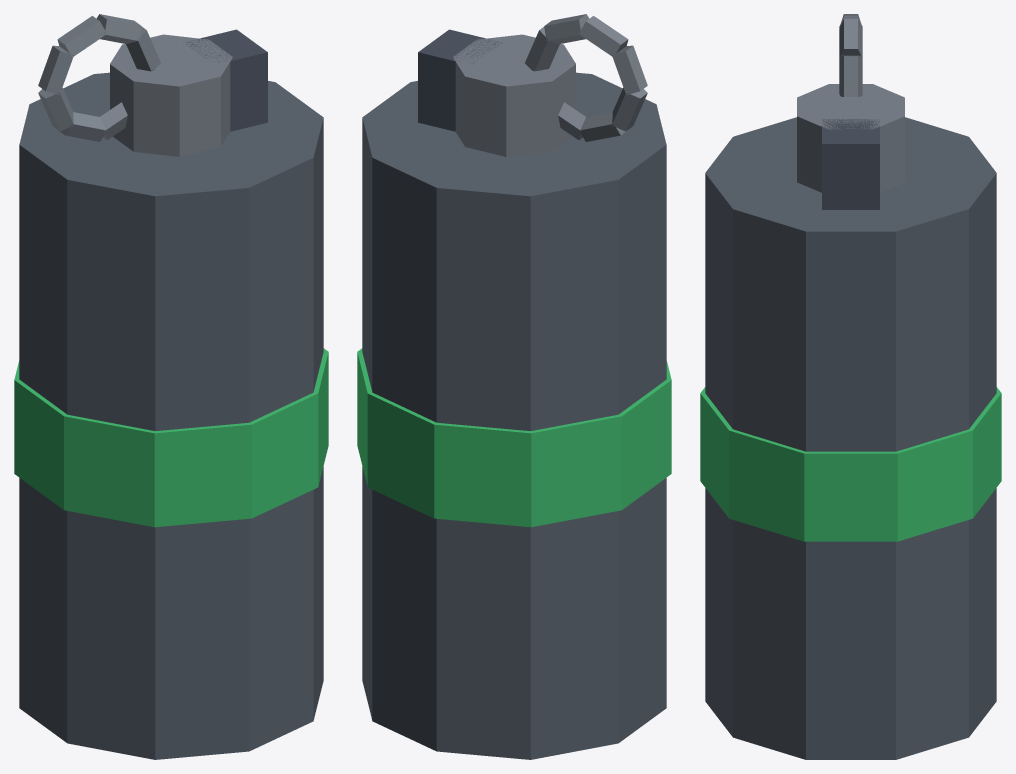
The model's file is smoke_grenade.glb.
3 views of the same model, side by side, from view 1: azimuth 30°, elevation 25°; view 2: azimuth 150°, elevation 25°; view 3: azimuth 270°, elevation 25° (orthographic). The views are drawn at different scales.
Parts seen in each view (by area): view 1: smoke_grenade; view 2: smoke_grenade; view 3: smoke_grenade.
Part boxes in pixels (x1,y1,x2,y2): smoke_grenade: (14, 14, 328, 759); smoke_grenade: (357, 14, 671, 759); smoke_grenade: (700, 14, 1001, 759).
Size of the model in its own units: 0.059 by 0.1479 by 0.062.
